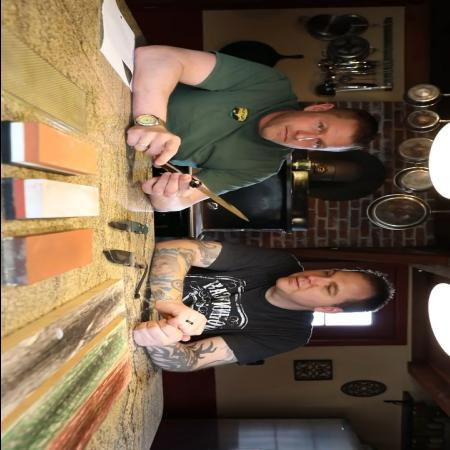long weapon: (159, 158, 259, 228)
